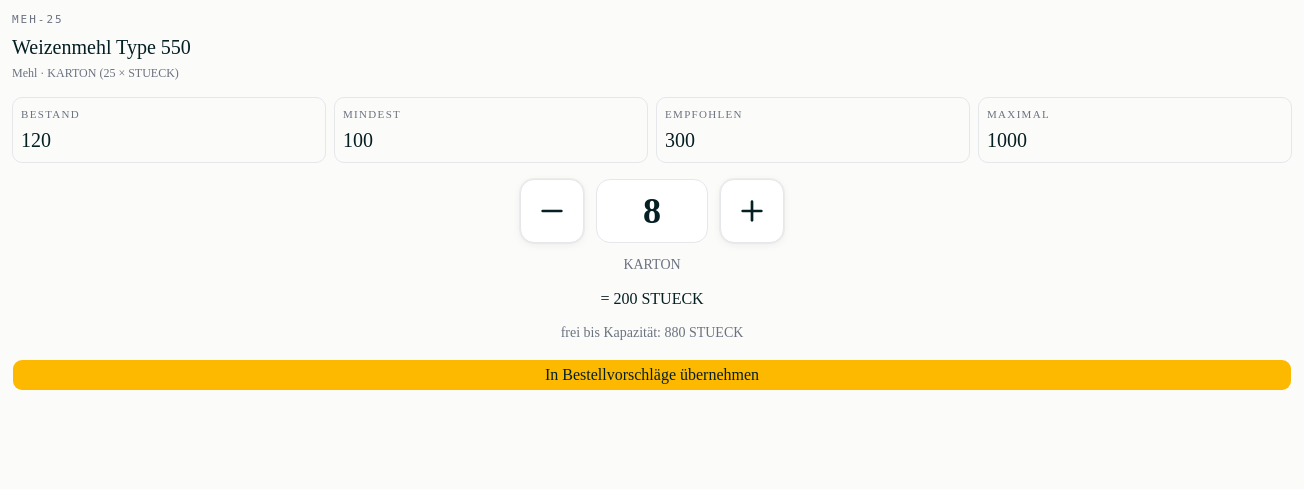
Test: ArticleOrderCard › Übernehmen sendet PUT mit der Menge an den Artikel und meldet Erfolg
Click the button "In Bestellvorschläge übernehmen" at [652, 375], box [12,359,1292,391]
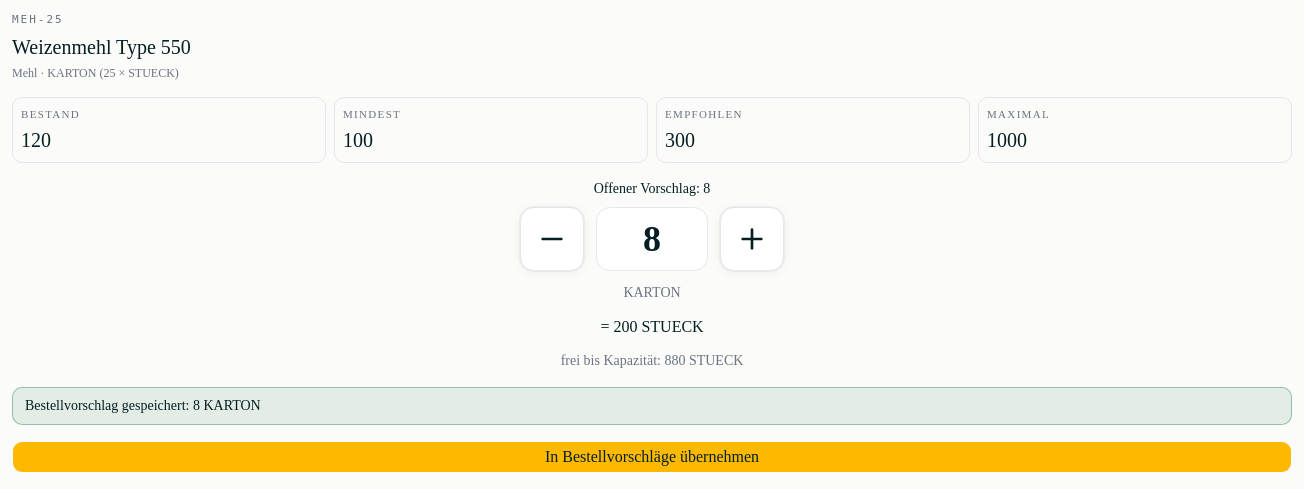
Check: the text "Bestellvorschlag gespeichert: 8 KARTON" is shown, box [12,387,1292,425]
